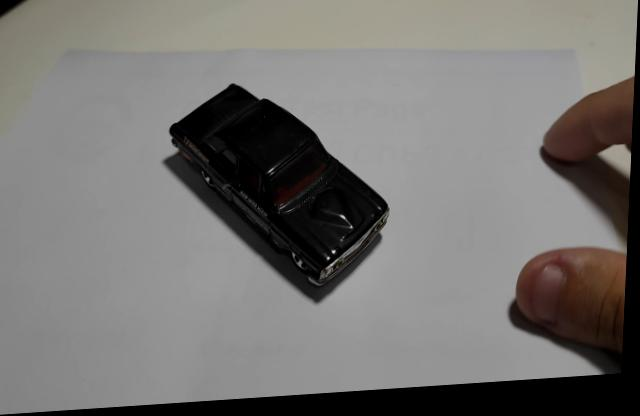01_FORD: (164, 88, 393, 310)
